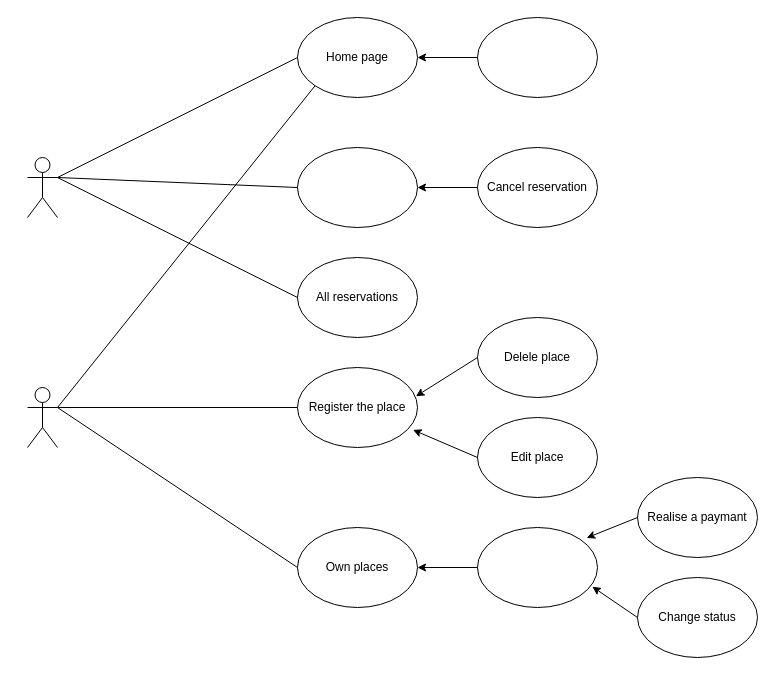
The diagram is 775 pixels wide and 675 high, and some of its shapes have lost their labels. The centre of each missing label's shape, as x and y in pixels:
"Details" goes at point (537, 57).
"LandLord" goes at point (42, 417).
"Make a reservation" goes at point (357, 187).
"Place reservations" goes at point (537, 567).
"Tenant" goes at point (42, 187).
